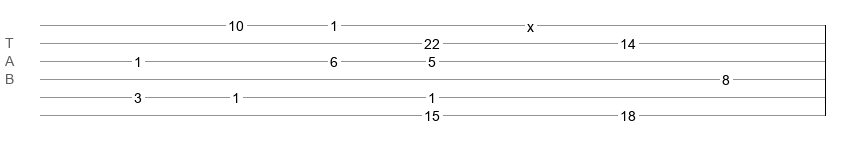1: (134, 54, 142, 64), (232, 90, 240, 100), (330, 18, 338, 28), (428, 90, 436, 100)
10: (228, 18, 244, 28)
14: (620, 36, 636, 46)
15: (424, 108, 440, 118)
18: (620, 108, 636, 118)
22: (424, 36, 440, 46)
3: (134, 90, 142, 100)
5: (428, 54, 436, 64)
6: (330, 54, 338, 64)
8: (722, 72, 730, 82)
x: (527, 19, 534, 27)
